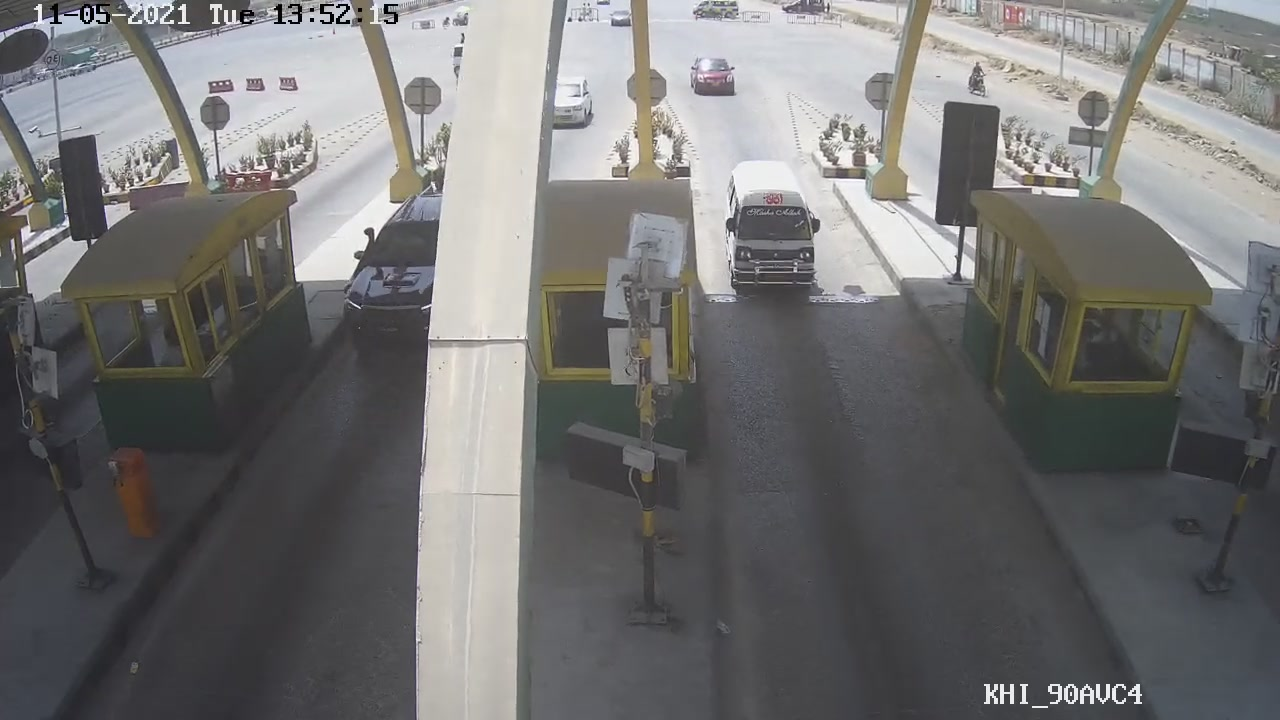F1: (721, 153, 837, 300)
